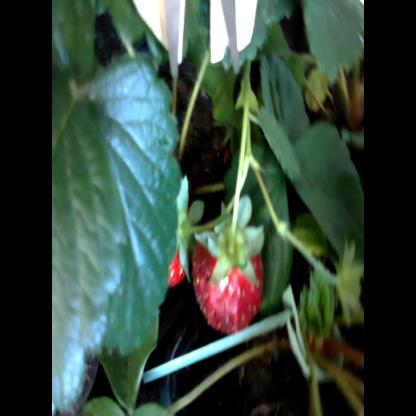ripe: (195, 208, 271, 332), (150, 166, 200, 307)
